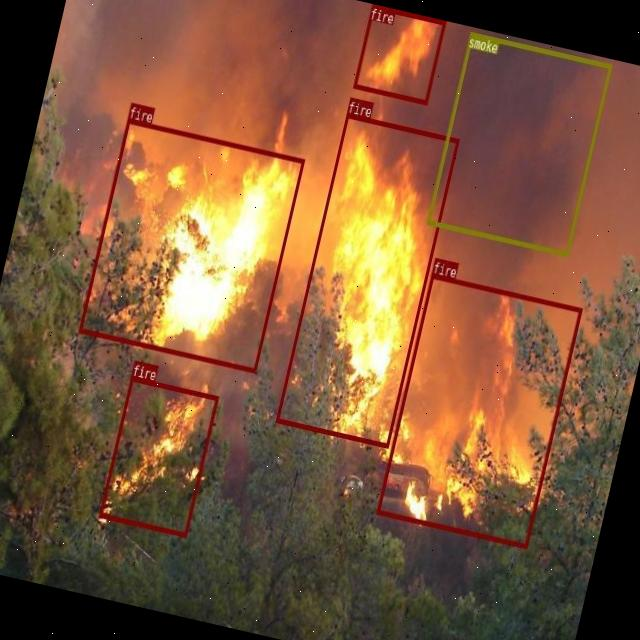fire: (274, 112, 458, 448), (77, 118, 304, 372), (376, 272, 582, 548), (99, 375, 218, 536), (354, 3, 446, 104)
smoke: (426, 30, 612, 256)
